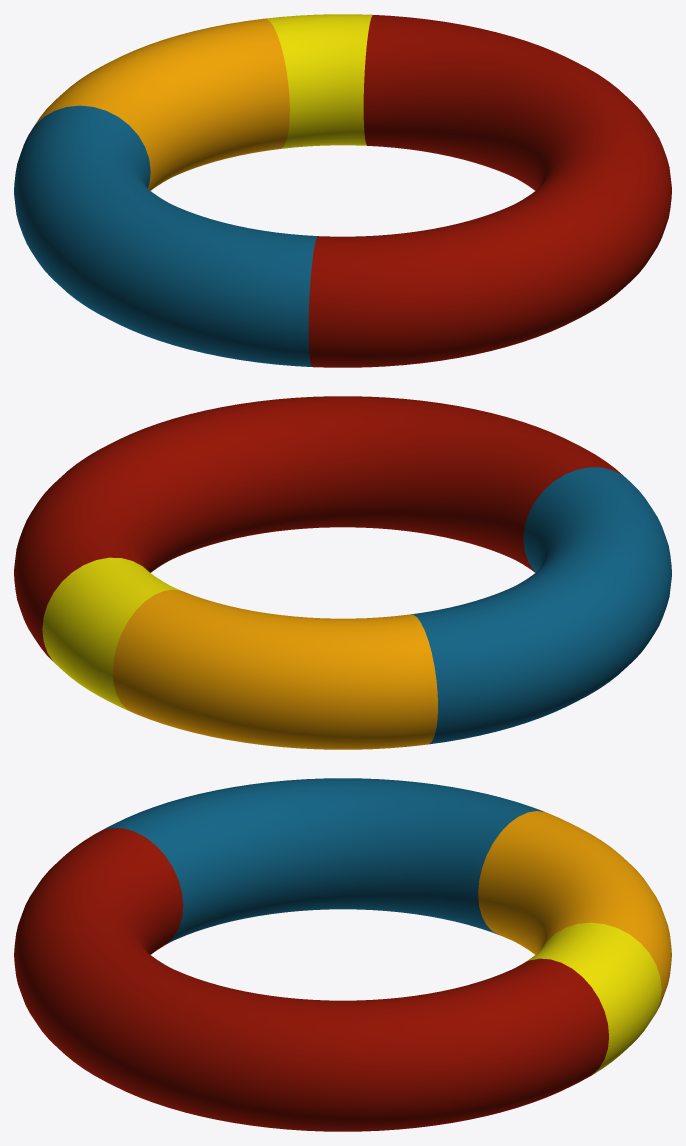
The model's file is 3D_data_donut_v2.glb.
3 renders of one model, top to bottom at view 1: azimuth 30°, elevation 25°; view 2: azimuth 150°, elevation 25°; view 3: azimuth 270°, elevation 25°, orthographic.
Parts seen in each view (by area): view 1: Single-use 49%, Plastic waste 27%, Non-plastic waste 18%, Other plastics 6%; view 2: Single-use 49%, Plastic waste 27%, Non-plastic waste 18%, Other plastics 6%; view 3: Single-use 49%, Plastic waste 27%, Non-plastic waste 18%, Other plastics 6%.
Part boxes in pixels (x1,y1,x2,y2): Single-use 49%: (308,15,671,367); Plastic waste 27%: (14,105,318,366); Non-plastic waste 18%: (32,18,289,190); Other plastics 6%: (266,14,372,148); Single-use 49%: (14,396,622,660); Plastic waste 27%: (410,467,671,744); Non-plastic waste 18%: (112,589,437,749); Other plastics 6%: (42,557,180,712); Single-use 49%: (14,828,608,1131); Plastic waste 27%: (99,778,544,944); Non-plastic waste 18%: (478,811,671,1011); Other plastics 6%: (522,922,661,1074).
Size of the model in its own units: 9.5 by 1.89 by 9.5.
